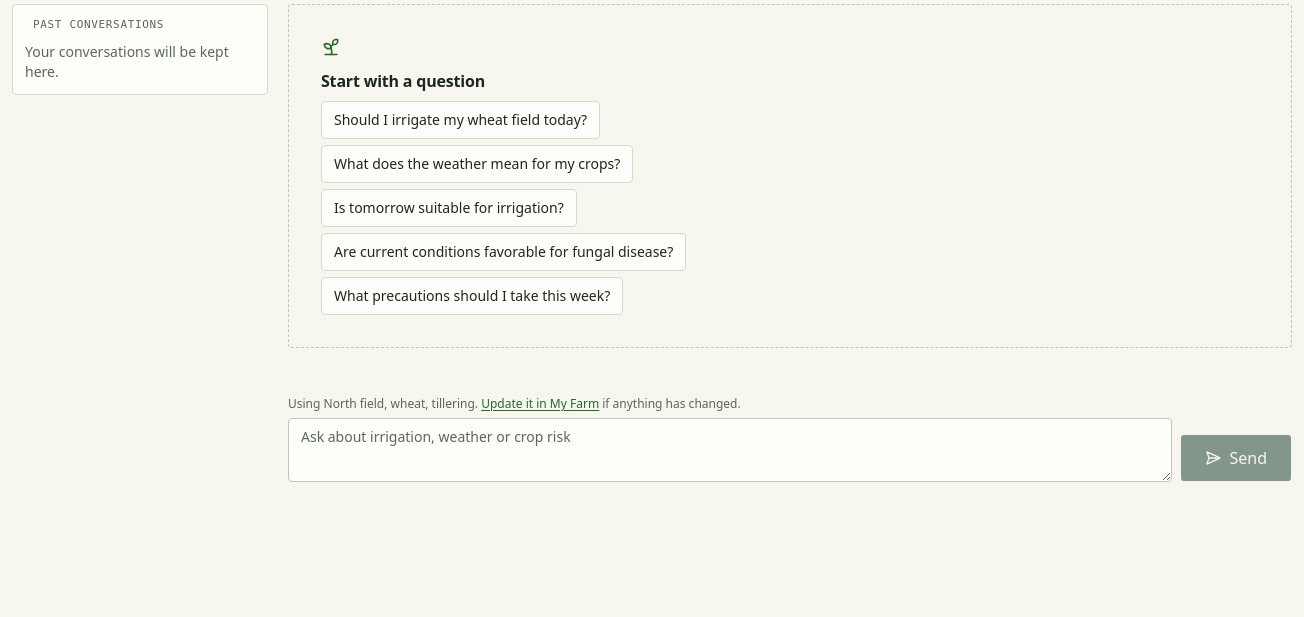
AssistantPage › shows each tool as it runs, then the final answer
Later steps or results of the test are not shown.
Type "Should I irrigate?" into the text box named "Your question" at (730,450), box left=288, top=418, right=1172, bottom=482
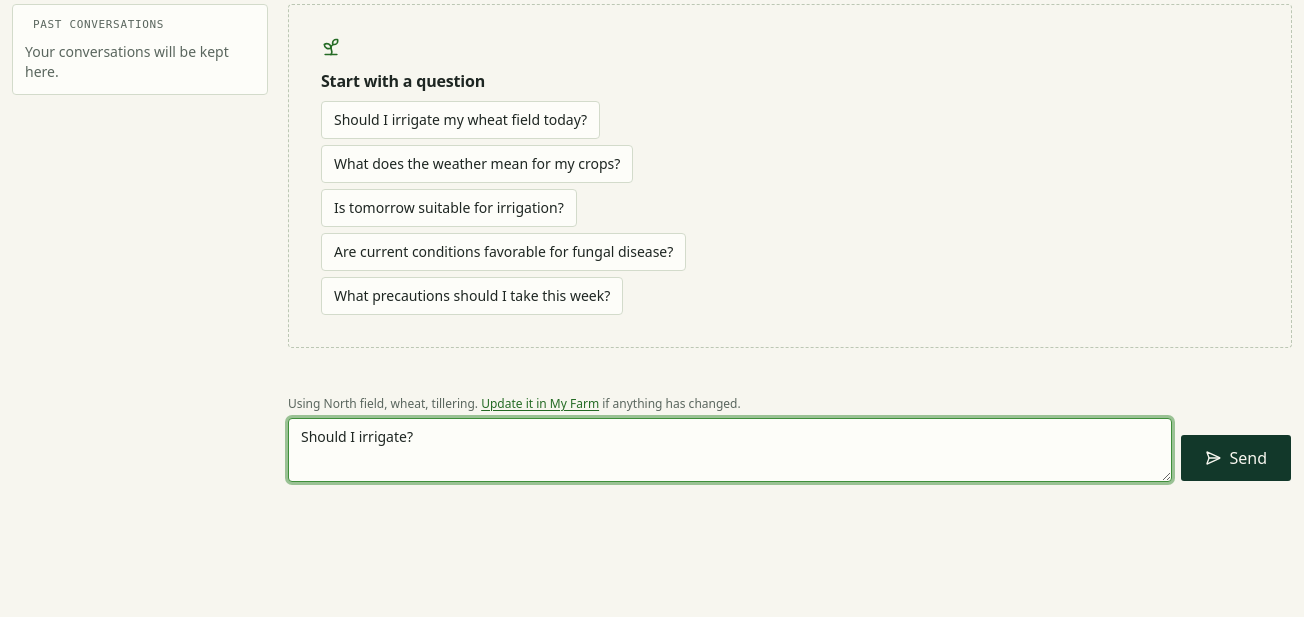
Click the button "Send" at (1236,458), box left=1180, top=434, right=1292, bottom=482
(page scrolled)
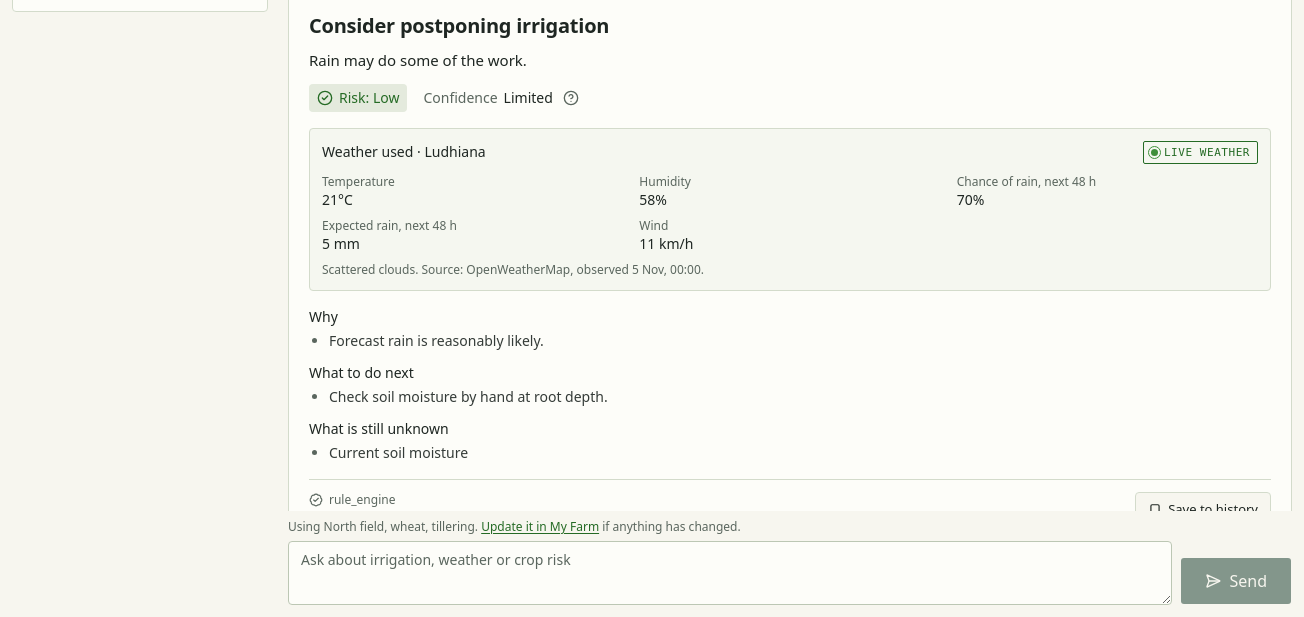
Now the element with test id "advice-card" shows "Rain may do some of the work.", box left=309, top=50, right=527, bottom=70
